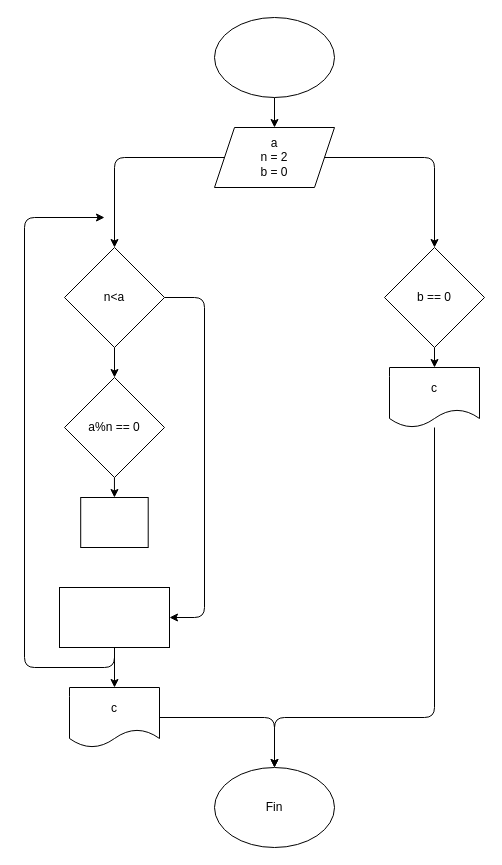
Some shapes in this 502 by 865 pixel diagram are drawn without their labels. Here are the shapes that lost their labels. From the top down, the box of each, then its label:
(214, 16, 334, 98): Inicio
(80, 496, 148, 548): b = 1
(58, 586, 170, 648): n = n + 1
